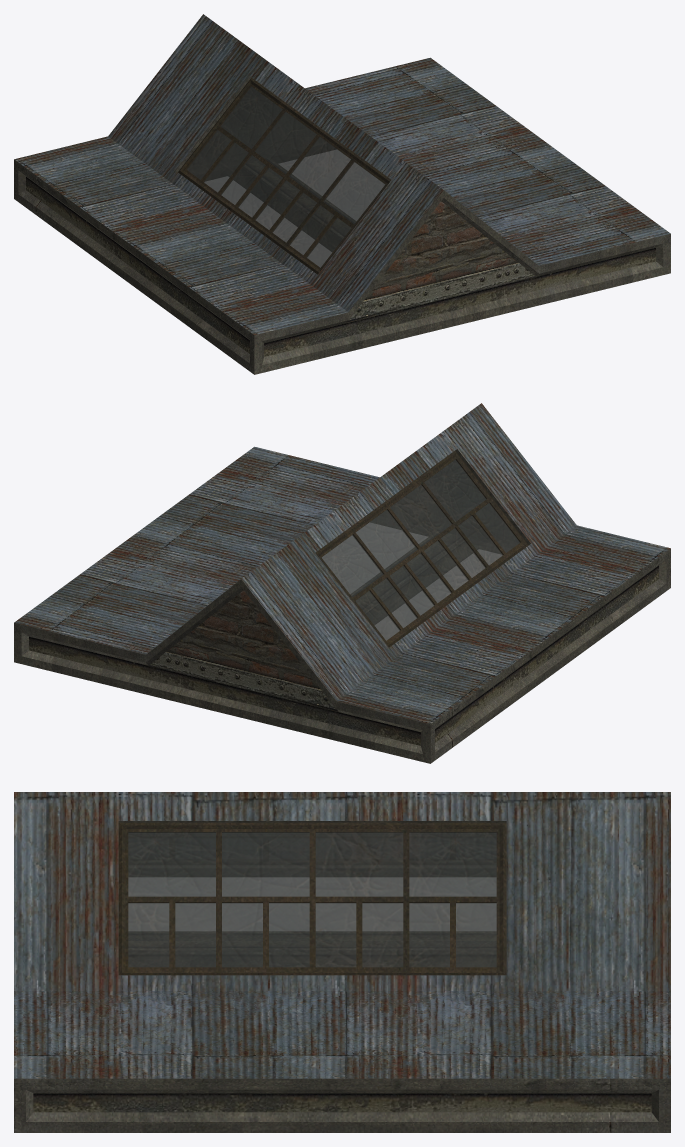
File: roof_bx_1_corner_2.obj
3 renders of one model, top to bottom at view 1: azimuth 30°, elevation 25°; view 2: azimuth 150°, elevation 25°; view 3: azimuth 270°, elevation 25°, orthographic. The views are drawn at different scales.
Parts seen in each view (by area): view 1: roof_bx_1_corner_2; view 2: roof_bx_1_corner_2; view 3: roof_bx_1_corner_2.
Part boxes in pixels (x1,y1,x2,y2): roof_bx_1_corner_2: [14, 14, 670, 374]; roof_bx_1_corner_2: [14, 403, 670, 763]; roof_bx_1_corner_2: [14, 792, 670, 1132].
Bounding box in the file's own units: 4.4 × 1.4 × 4.4.
